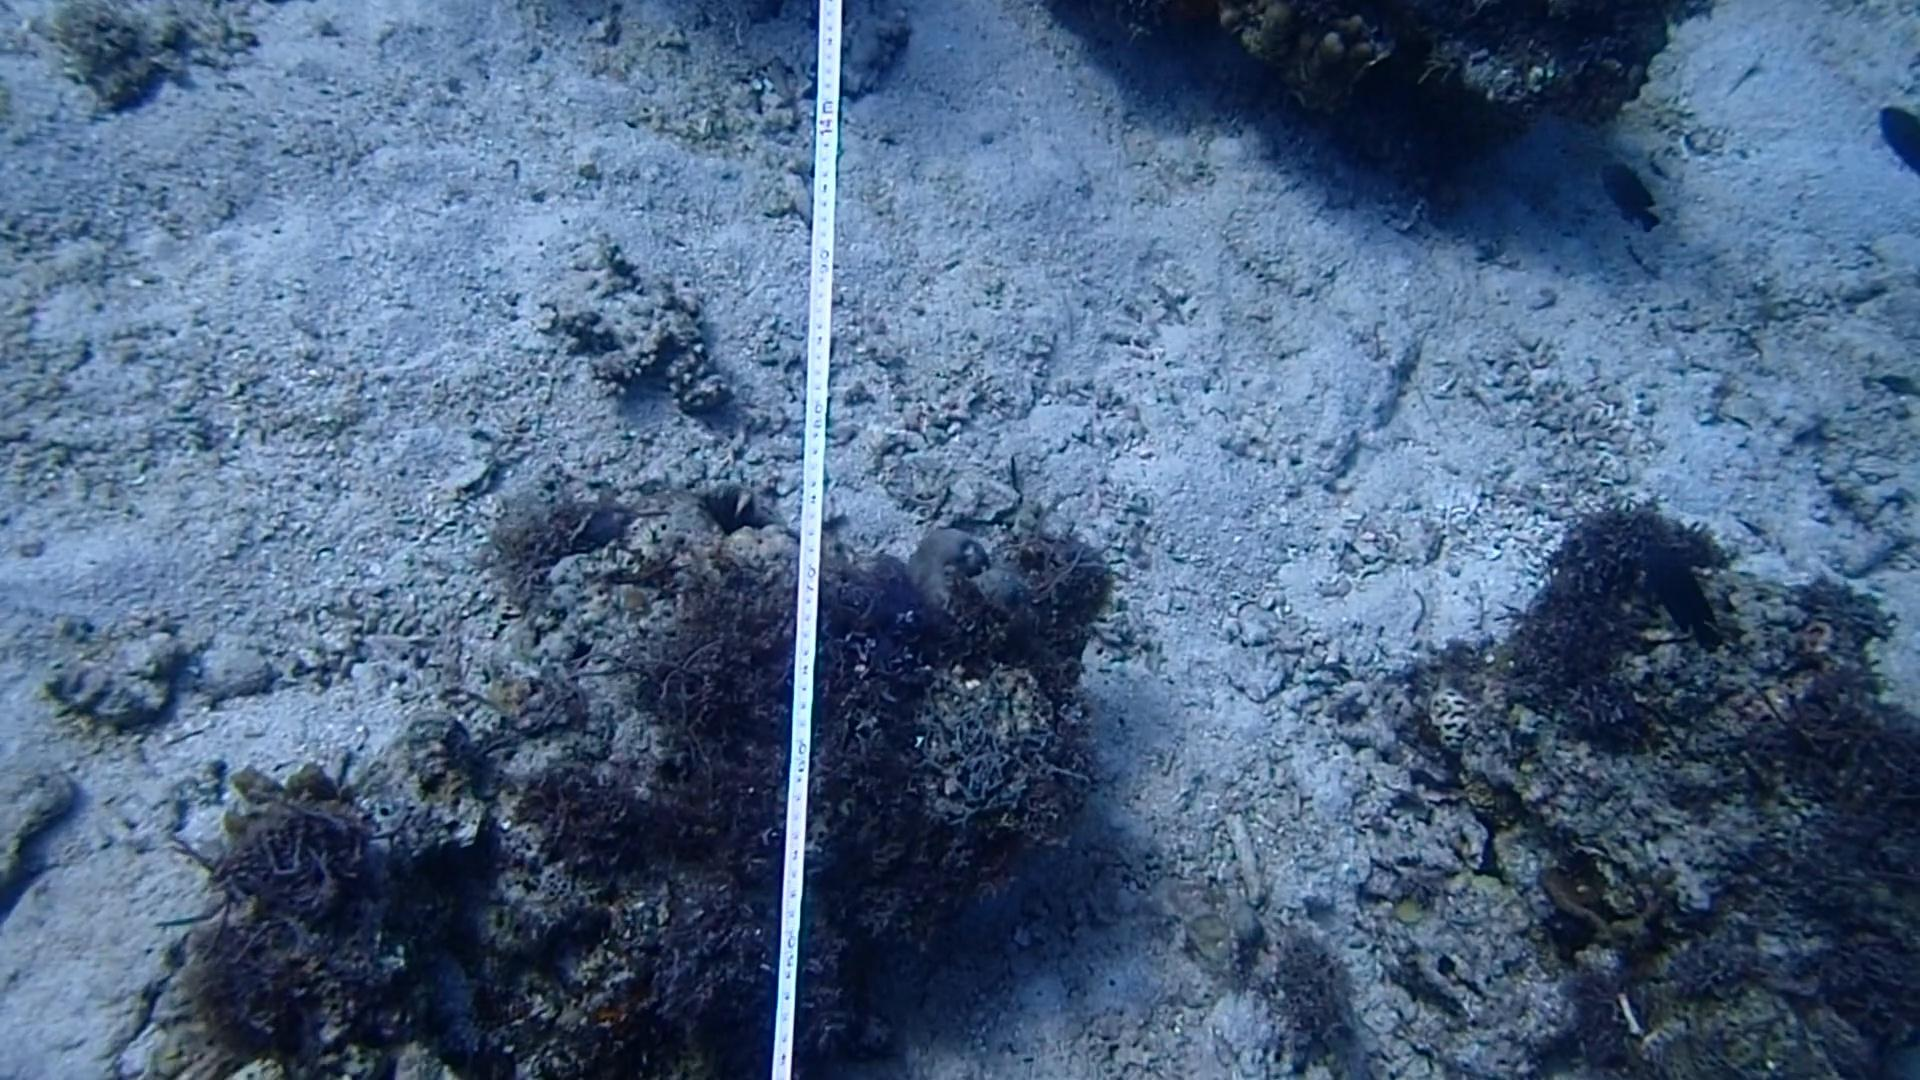Dark Fish: (1642, 541, 1722, 659), (1586, 148, 1676, 248), (1874, 92, 1920, 181)
